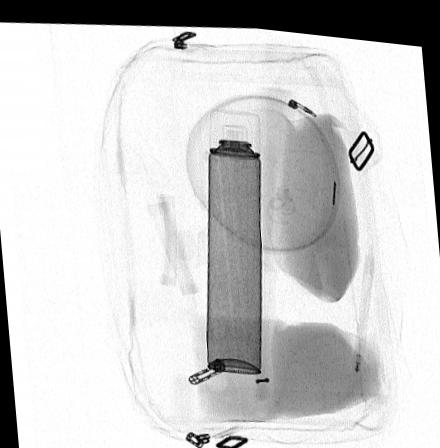Sprayer: (205, 105, 261, 369)
